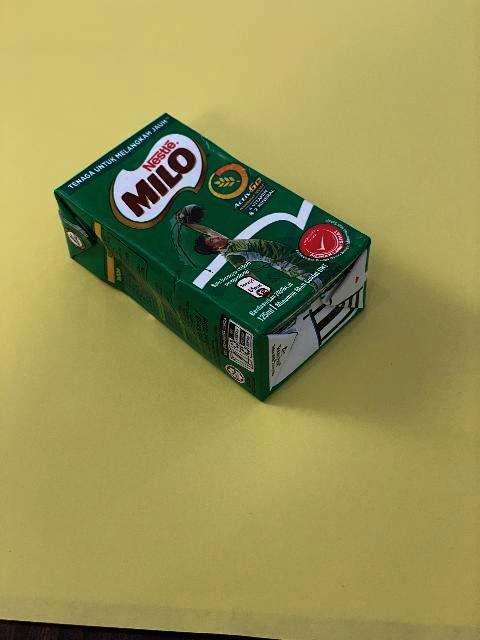drinkpack: (53, 111, 373, 402)
